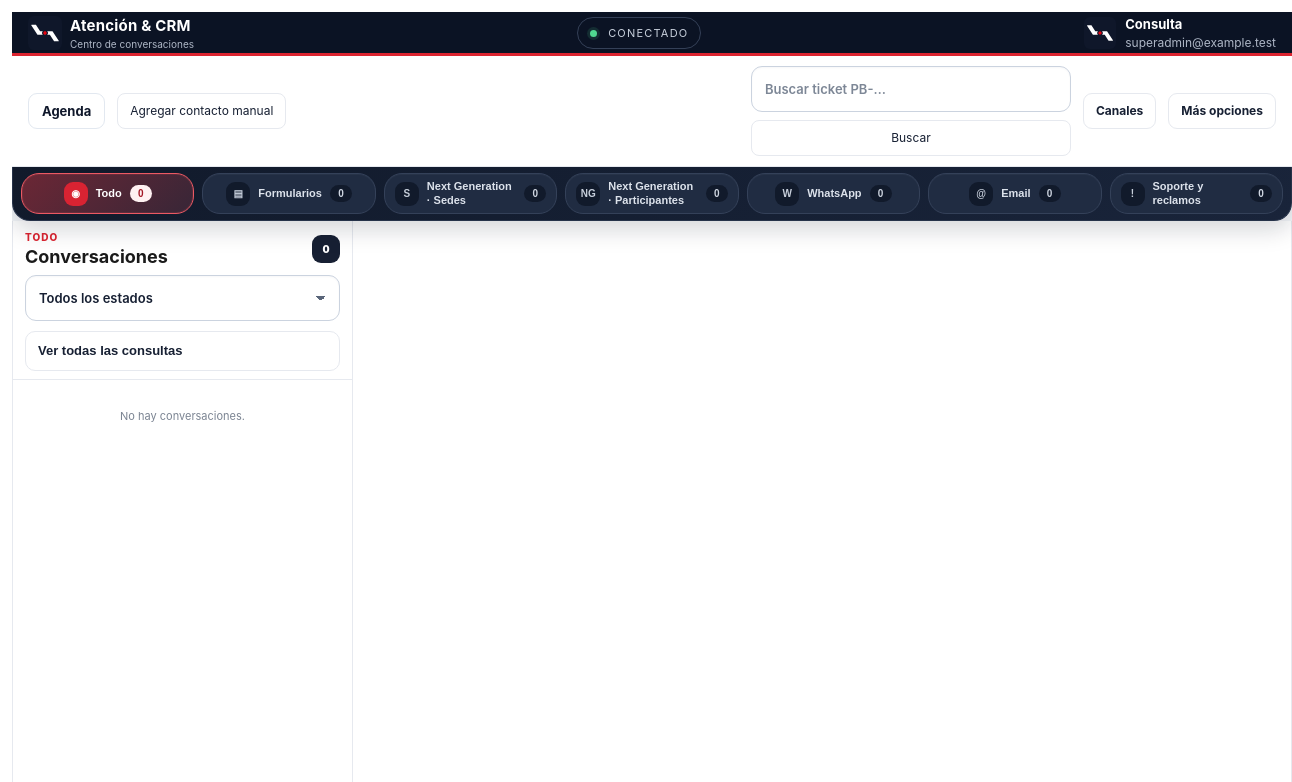
CRM histórico unificado › busca y muestra el ticket corto para una conversación cerrada
The image size is (1292, 782).
Step 1. Type "pb-100001" into the field named "Buscar por número de ticket" → (911, 89), box [751,66,1071,112]
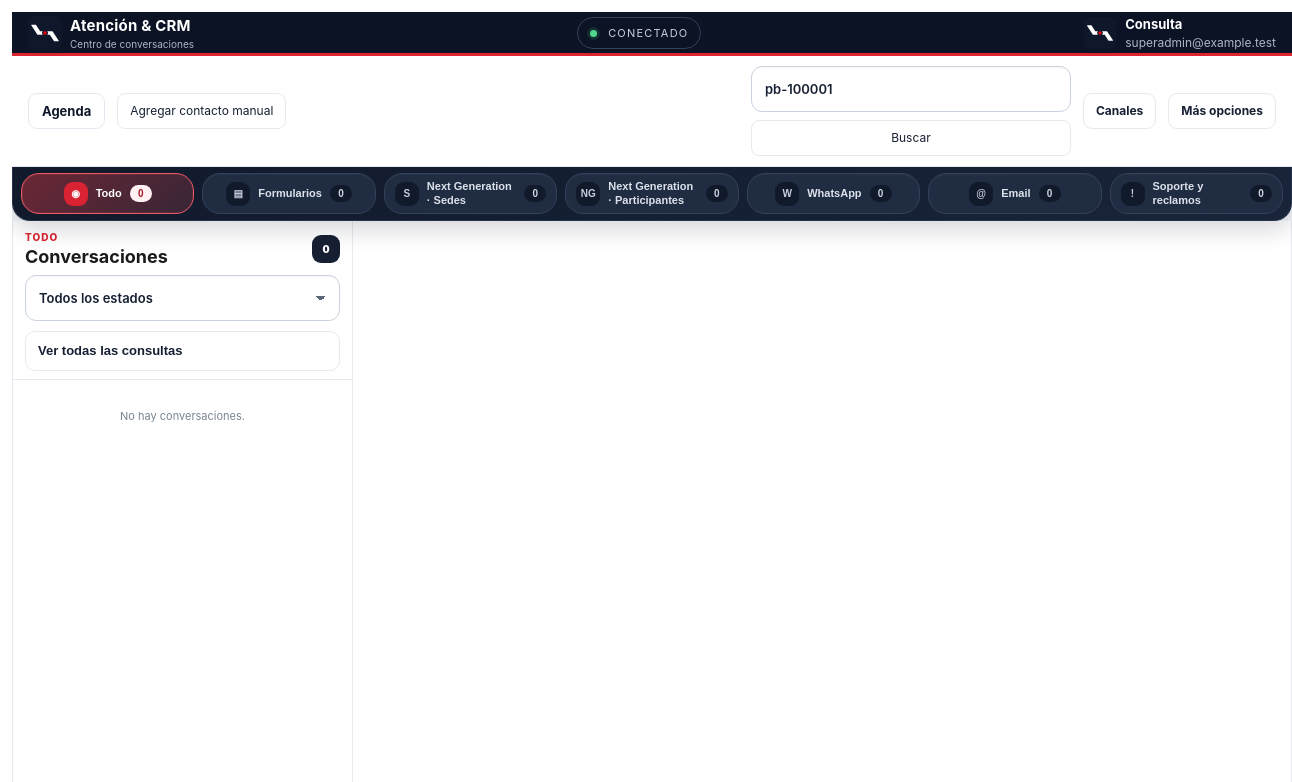
Step 2. Click the button "Buscar" → click(911, 138), box [751,120,1071,156]
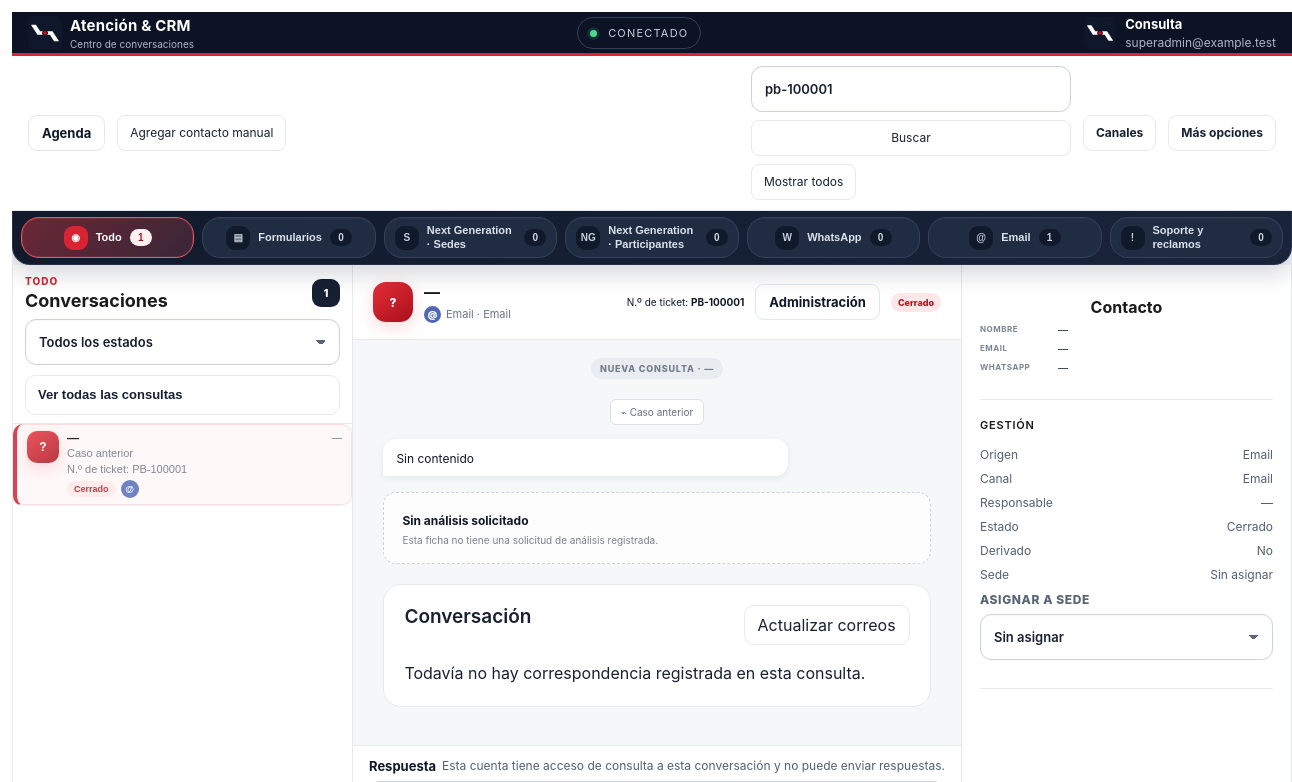
Expected: the text "N.º de ticket: PB-100001" is shown 2 times, [67,463,187,475]; [691,296,744,308]
